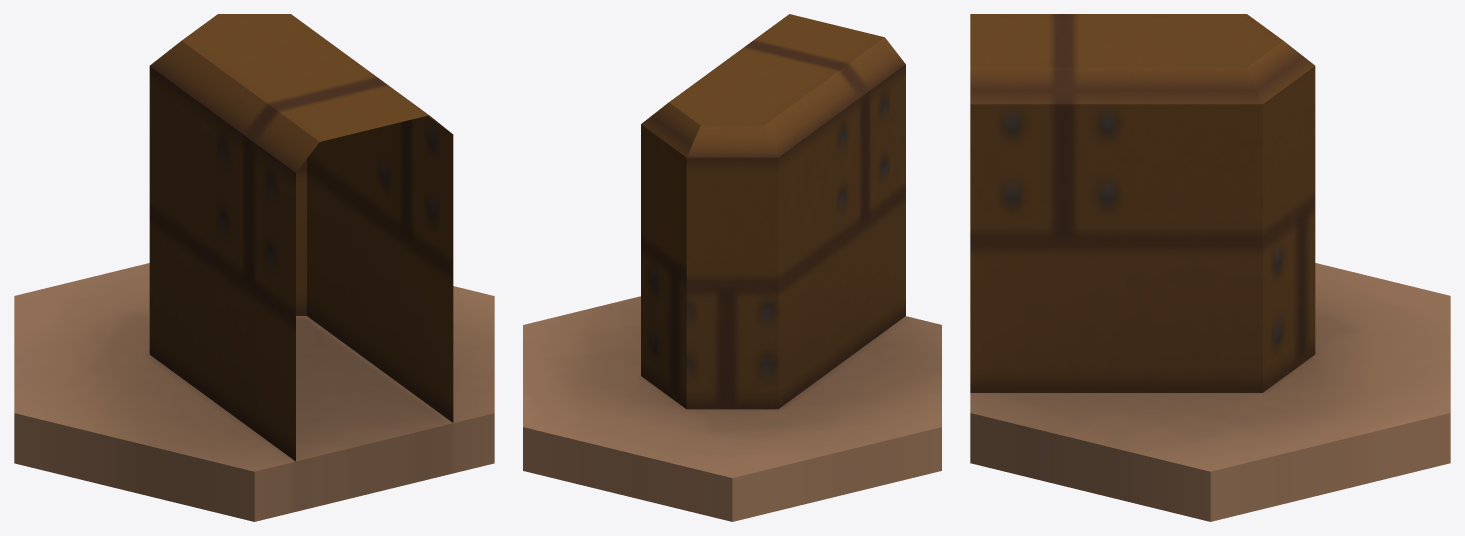
The model's file is Barriere_Fin_Pont.FBX.
The picture shows the model from 3 angles, left to right: view 1: azimuth 30°, elevation 25°; view 2: azimuth 150°, elevation 25°; view 3: azimuth 270°, elevation 25°; orthographic projection. The views are drawn at different scales.
Parts seen in each view (by area): view 1: Barriere_Fin_Pont; view 2: Barriere_Fin_Pont; view 3: Barriere_Fin_Pont.
Part boxes in pixels (<box>): Barriere_Fin_Pont: <box>14,14,494,521</box>; Barriere_Fin_Pont: <box>523,14,941,521</box>; Barriere_Fin_Pont: <box>970,14,1450,521</box>.
Size of the model in its own units: 1 by 0.7247 by 0.8661.
